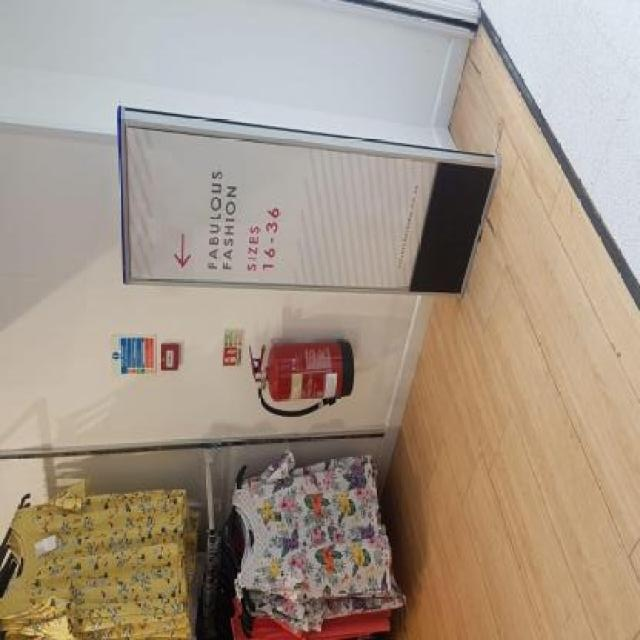fire extinguisher: (251, 338, 355, 414)
